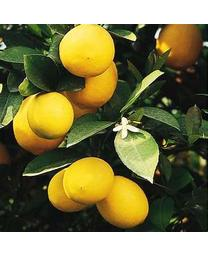lemon: (60, 27, 114, 76), (96, 176, 147, 225), (66, 159, 115, 204), (28, 93, 74, 139), (70, 60, 116, 105), (157, 24, 204, 64), (49, 168, 89, 212)
